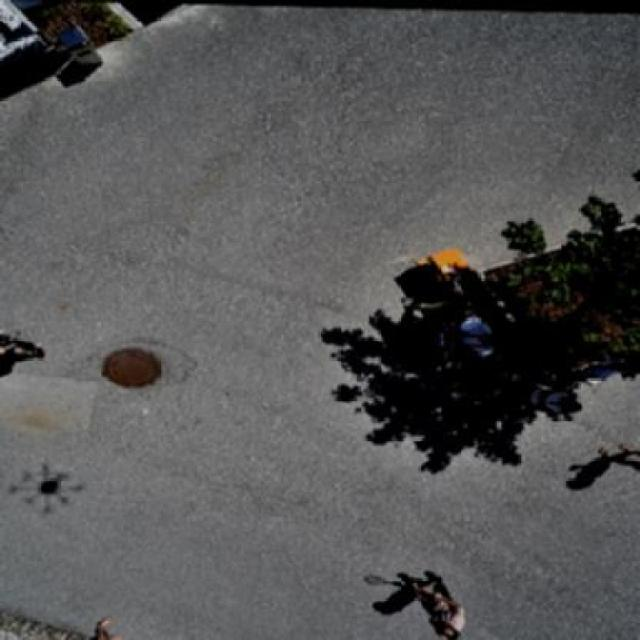Person: (402, 556, 472, 638), (446, 315, 503, 363), (1, 330, 33, 370)
